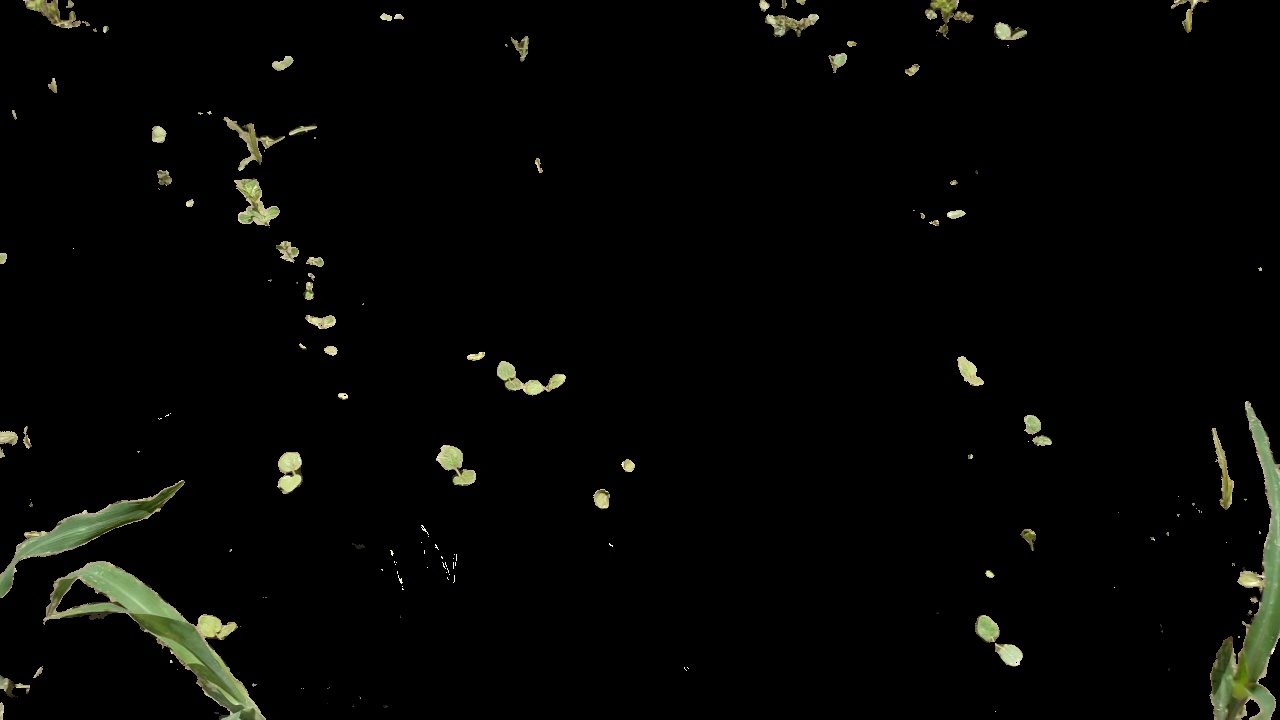crop: (2, 479, 258, 718), (1199, 396, 1280, 720)
weed: (210, 114, 322, 170), (969, 608, 1026, 671), (492, 360, 576, 399), (263, 446, 317, 500), (429, 438, 480, 491), (591, 450, 636, 510), (230, 177, 283, 227), (758, 14, 823, 41), (1019, 412, 1059, 453), (988, 19, 1028, 45), (272, 234, 303, 266), (297, 312, 342, 331), (956, 356, 980, 391)
